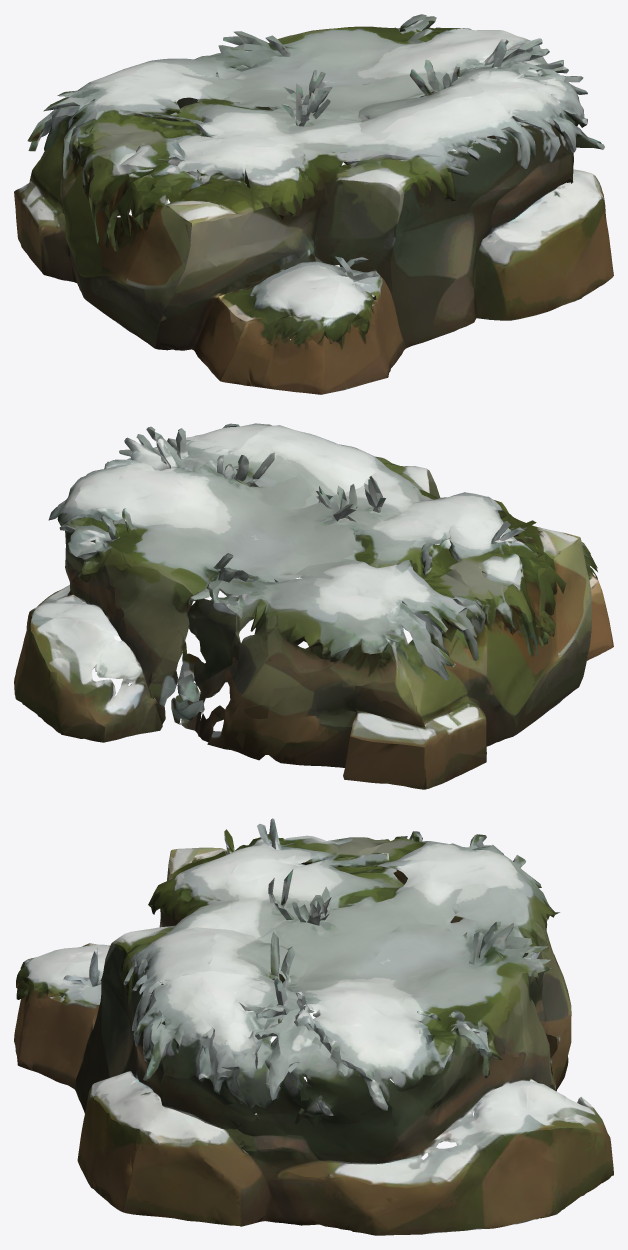
File: snow_moss_node.glb
The picture shows the model from 3 angles, top to bottom: view 1: azimuth 30°, elevation 25°; view 2: azimuth 150°, elevation 25°; view 3: azimuth 270°, elevation 25°; orthographic projection. The views are drawn at different scales.
Parts seen in each view (by area): view 1: snow_moss_node; view 2: snow_moss_node; view 3: snow_moss_node.
Part boxes in pixels (x1=…): snow_moss_node: x1=14, y1=14, x2=613, y2=394; snow_moss_node: x1=14, y1=423, x2=613, y2=789; snow_moss_node: x1=14, y1=818, x2=613, y2=1235.
Size of the model in its own units: 0.8 by 0.3162 by 0.7933.
Materials: 1 (1 with a texture image).
